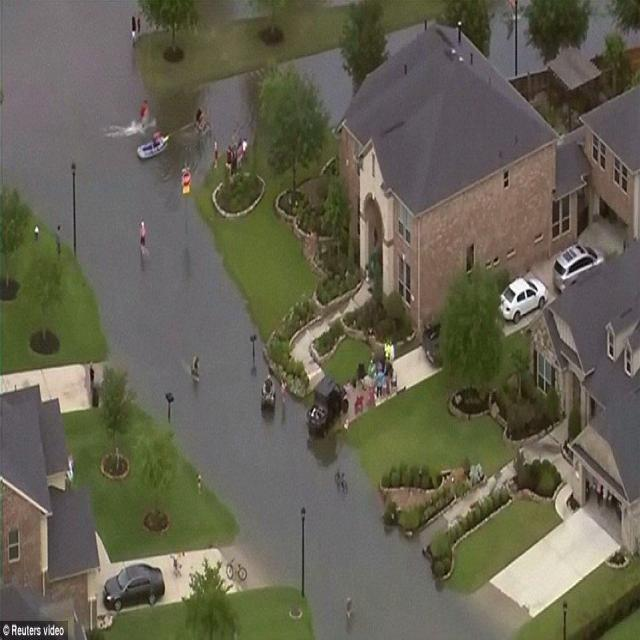flooded_areas: (18, 5, 522, 639)
